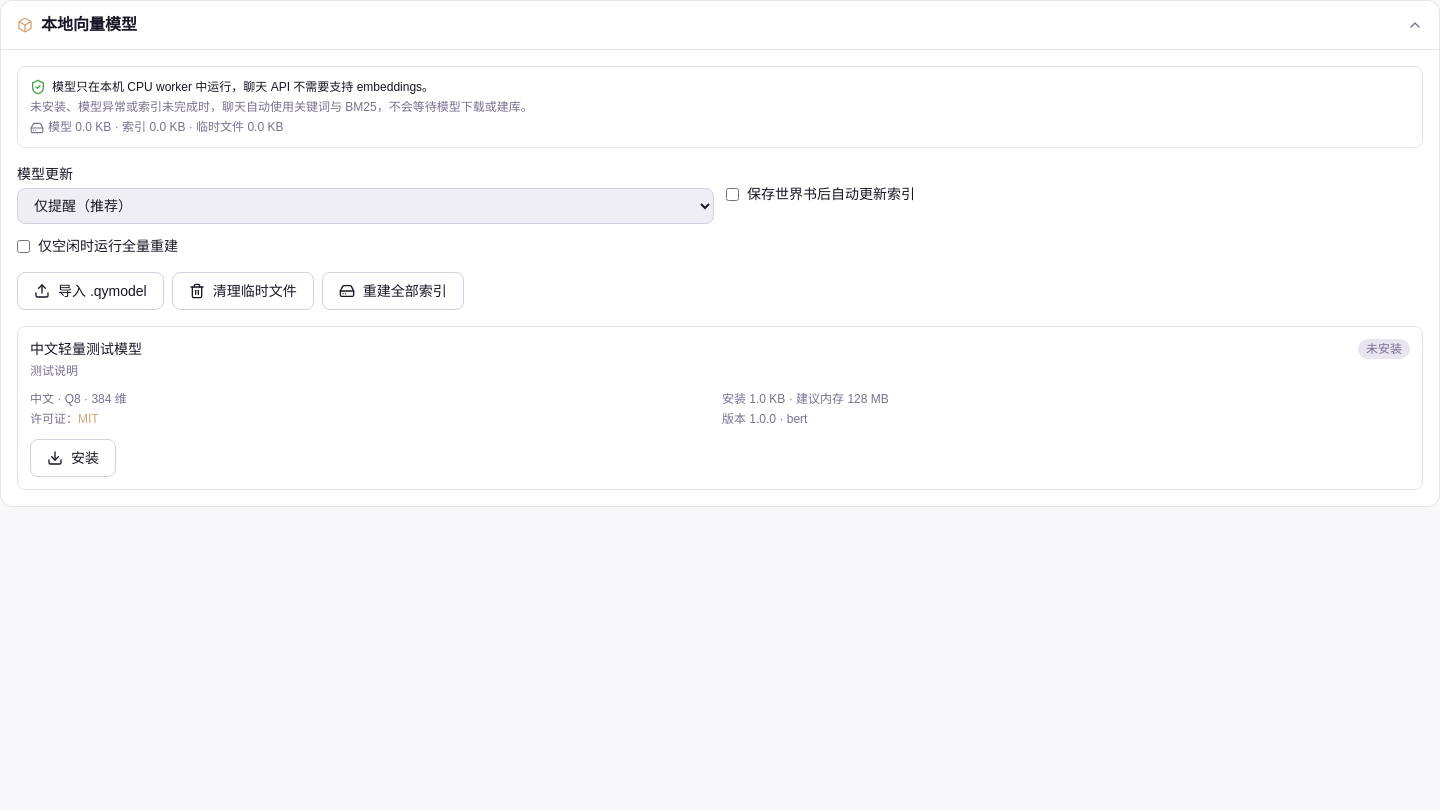
Test: LocalModelsSection › 展示签名目录模型的许可证、体积与安装入口
Expected: the heading "中文轻量测试模型" is shown, [30,339,142,359]
Expected: the text "许可证： MIT" is shown, [30,412,99,426]
Click the button "安装": (73, 458) [30,439,116,477]
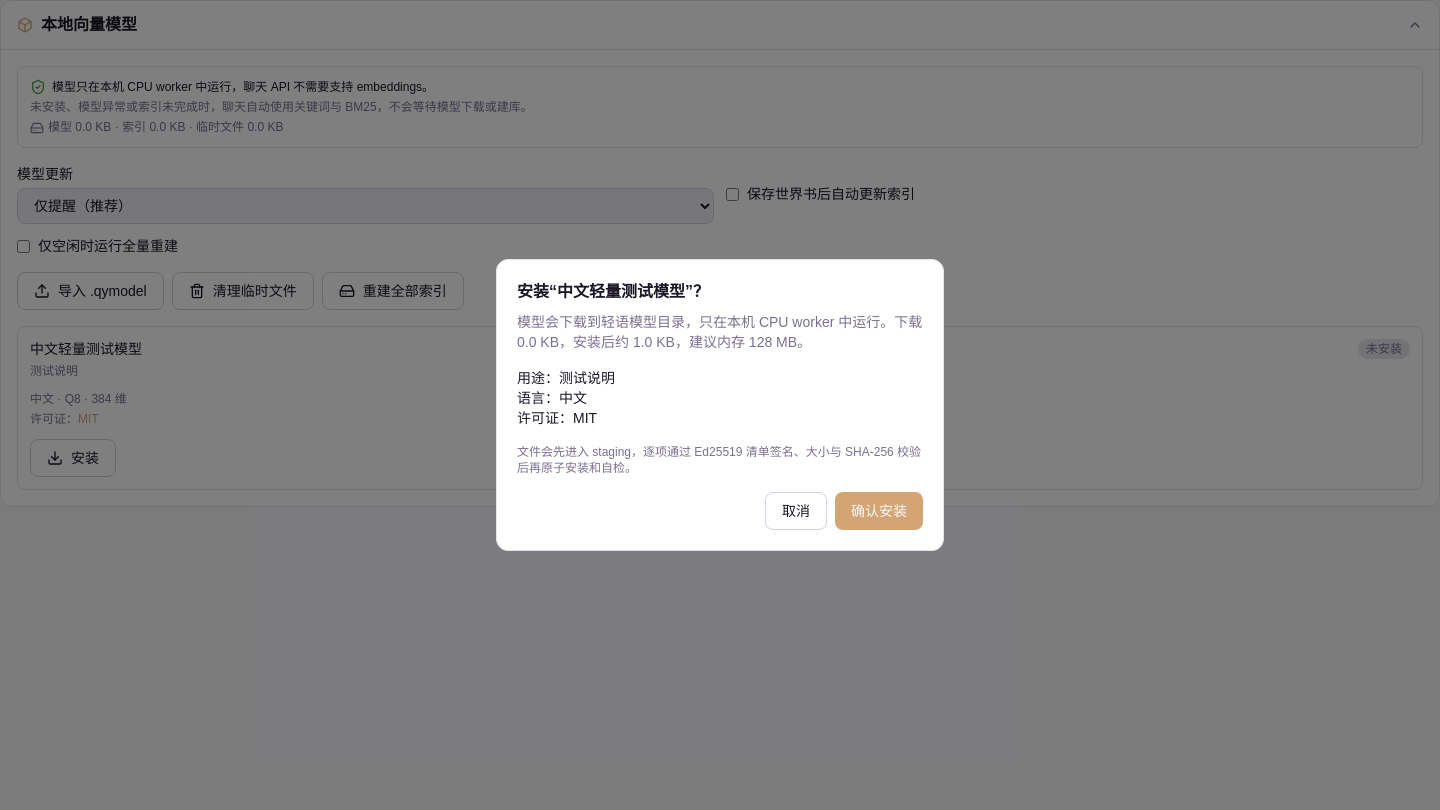
Now the dialog named "安装本地模型" is shown
Now the text "文件会先进入 staging，逐项通过 Ed25519 清单签名、大小与 SHA-256 校验后再原子安装和自检。" is shown, box [517,444,923,476]
